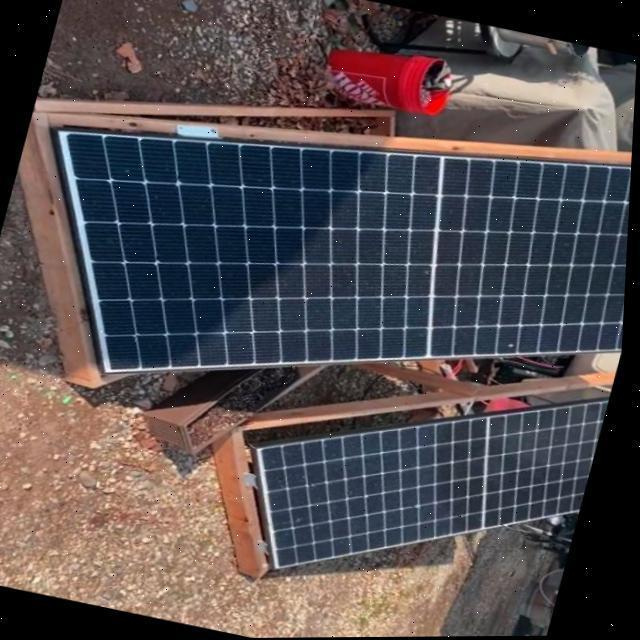Normal Solar Panel: (0, 40, 638, 473), (227, 328, 616, 628)
